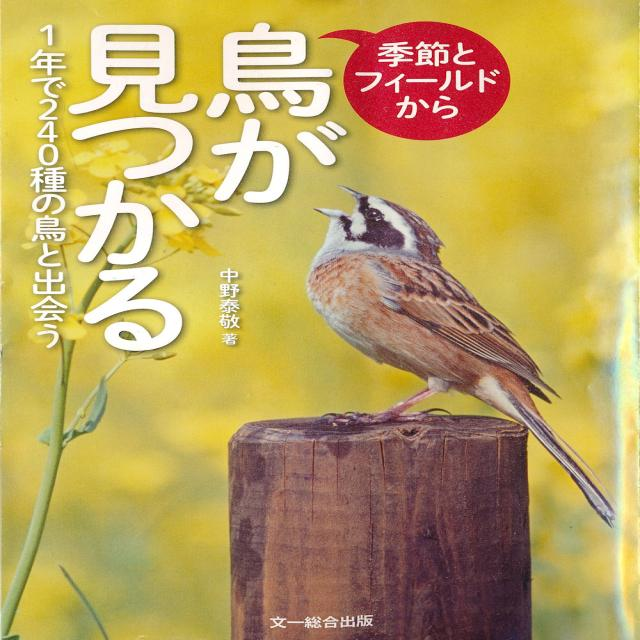bird: (296, 185, 622, 526)
